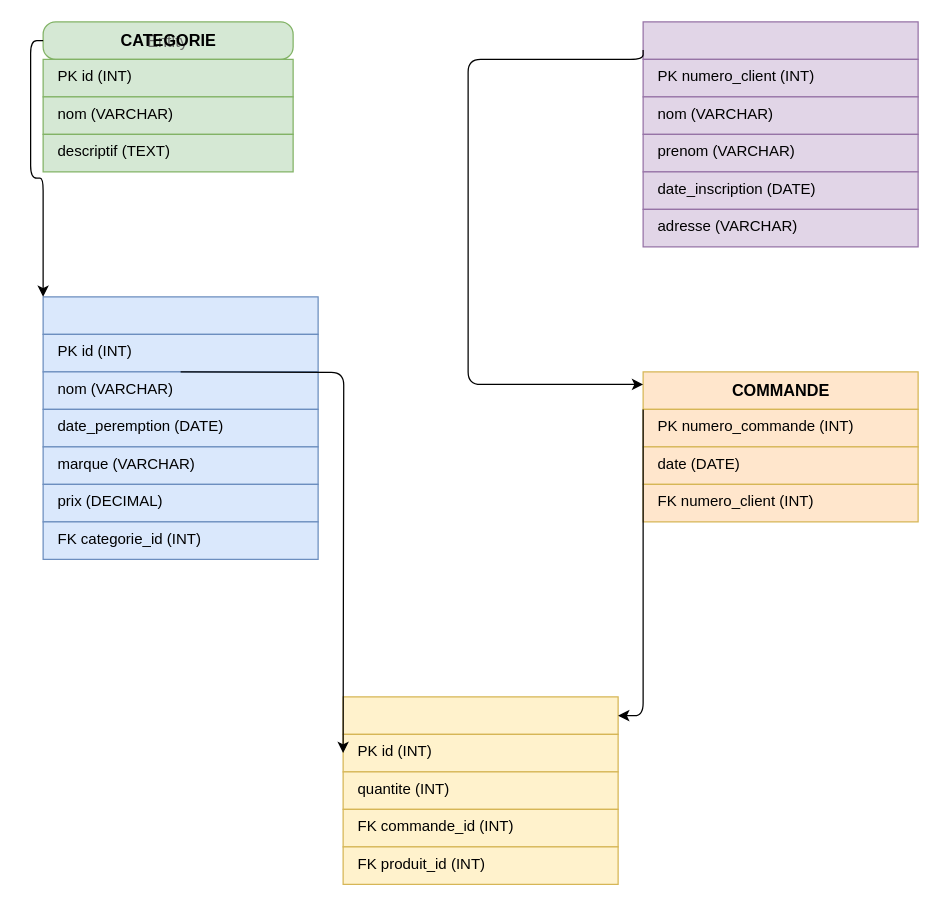
This 940x906 diagram has some shape labels left out. The centre of each missing label's shape, as x and y in pixels:
CLIENT: (780,40)
LIGNECOMMANDE: (480,715)
PRODUIT: (180,315)
